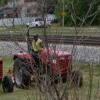Tractor: (13, 26, 74, 88)
